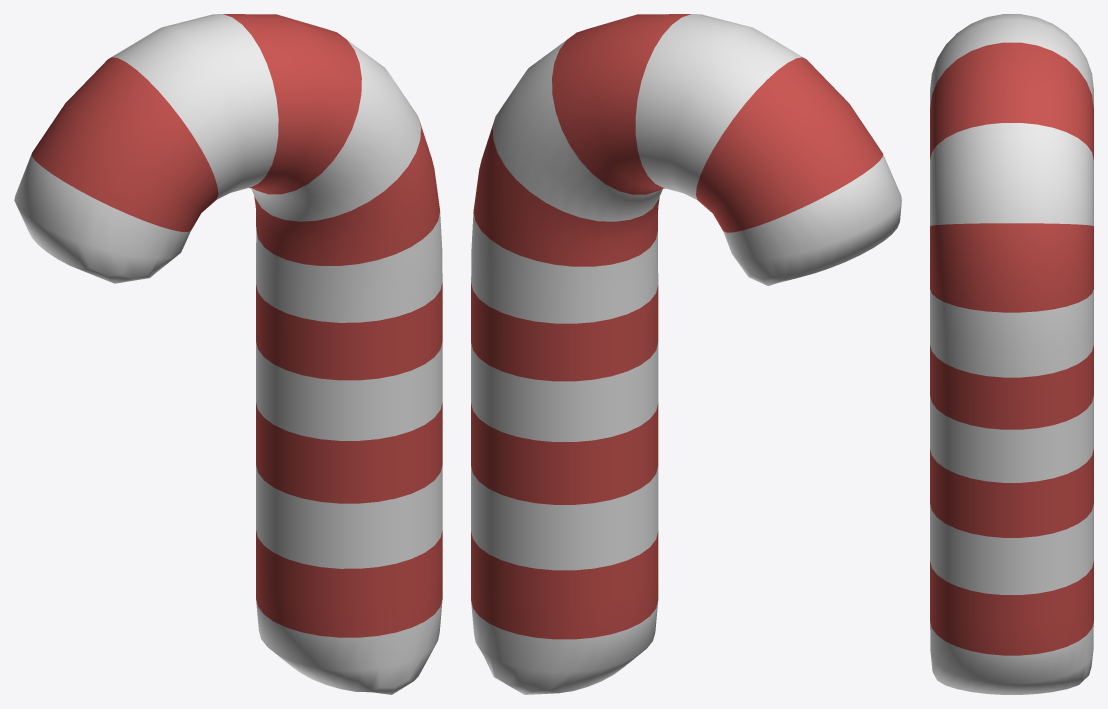
The model's file is Jam3candycane.fbx.
3 views of the same model, side by side, from view 1: azimuth 30°, elevation 25°; view 2: azimuth 150°, elevation 25°; view 3: azimuth 270°, elevation 25° (orthographic). The views are drawn at different scales.
Visible parts, largest first — view 1: Cylinder; view 2: Cylinder; view 3: Cylinder.
Boxes of the visible parts, bbox=[...] form: Cylinder: bbox=[14, 14, 442, 694]; Cylinder: bbox=[471, 14, 901, 694]; Cylinder: bbox=[930, 14, 1093, 694].
Size of the model in its own units: 165 by 264 by 66.54.
